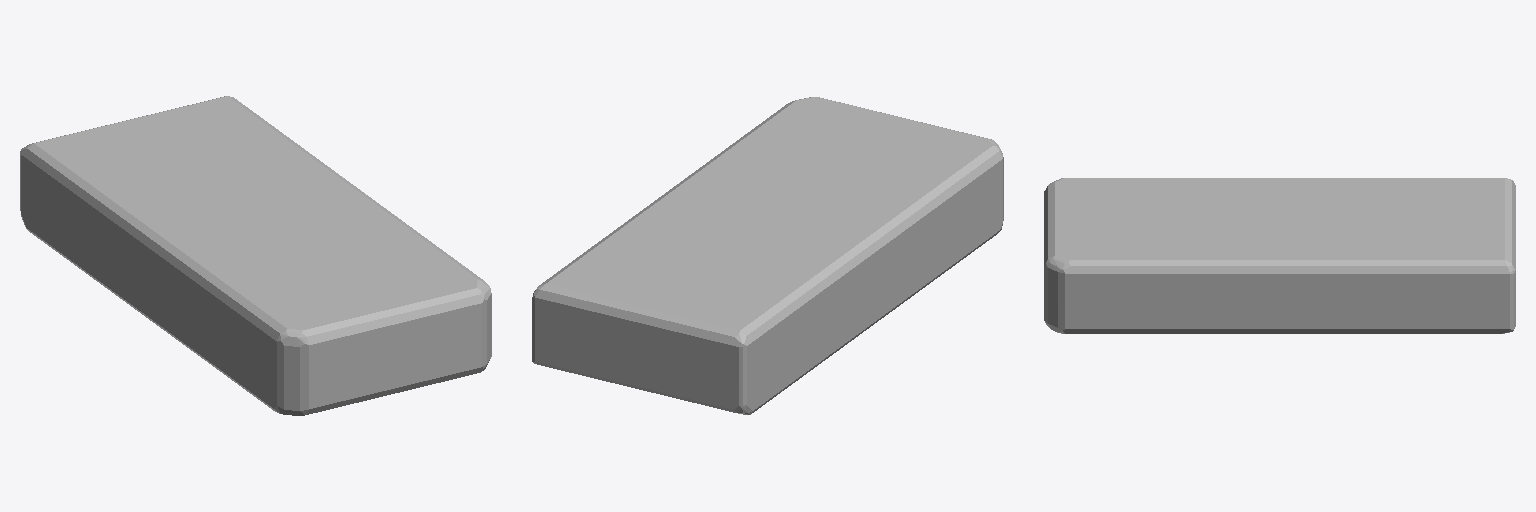
The robot description file, URDF, robot "root":
<?xml version="1.0"?>
<robot name="root">
  <link name="base_link">
    <visual>
      <origin xyz="0 0 0" rpy="0 0 0" />
      <geometry>
        <mesh filename="../meshes/unidex_sem_CellPhone-5e32cab23e238e0cb4267f4766f946_010.obj" scale="1.0000E+00 1.0000E+00 1.0000E+00" />
      </geometry>
      <material name="">
        <color rgba="7.50E-01 7.50E-01 7.50E-01 1" />
      </material>
    </visual>
    <collision>
      <origin xyz="0 0 0" rpy="0 0 0" />
      <geometry>
        <mesh filename="../meshes/unidex_sem_CellPhone-5e32cab23e238e0cb4267f4766f946_010.obj" scale="1.0000E+00 1.0000E+00 1.0000E+00" />
      </geometry>
    </collision>
  </link>
</robot>

--- Facts derived from the render (not from the file) ---
The picture shows the robot from 3 angles, left to right: view 1: azimuth 30°, elevation 25°; view 2: azimuth 150°, elevation 25°; view 3: azimuth 270°, elevation 25°; orthographic projection.
Robot: root — 1 links, 0 joints (none); root link base_link; default pose: every joint at zero.
Visible links, largest first — view 1: base_link; view 2: base_link; view 3: base_link.
Link boxes in pixels (bbox=[...]): base_link: bbox=[20, 96, 491, 415]; base_link: bbox=[532, 97, 1003, 414]; base_link: bbox=[1044, 178, 1515, 333].
Size in the robot's own frame: 0.081 by 0.1774 by 0.0308 metres.
1 mesh visuals loaded from 1 distinct referenced files (1 OBJ).
